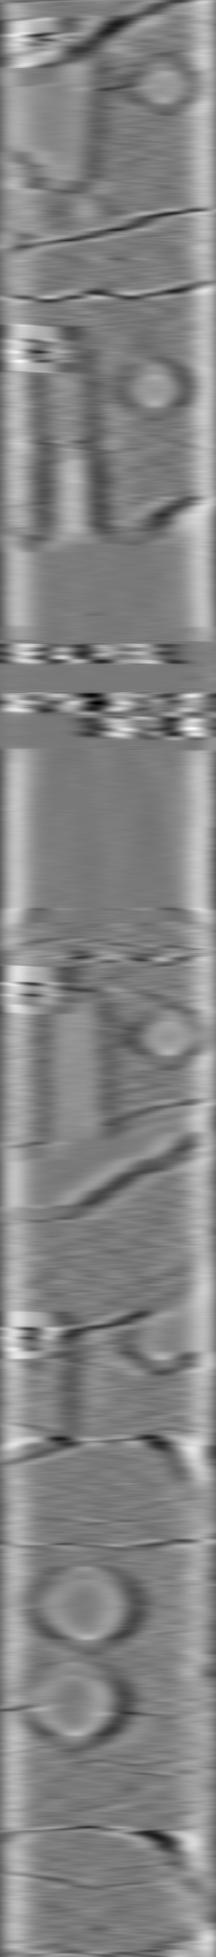hplug: (124, 45, 201, 124), (124, 995, 199, 1075), (117, 354, 194, 431), (124, 1313, 199, 1385)
scal: (21, 1655, 134, 1759), (32, 1558, 141, 1657)
vplug: (27, 349, 109, 537), (25, 22, 102, 198), (37, 975, 109, 1147), (12, 1330, 77, 1462)
